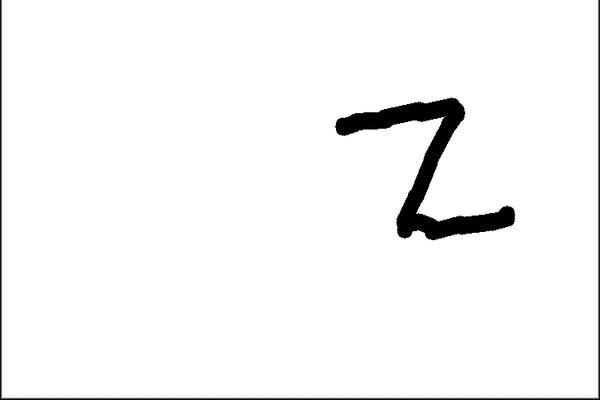Z: (311, 81, 531, 251)
